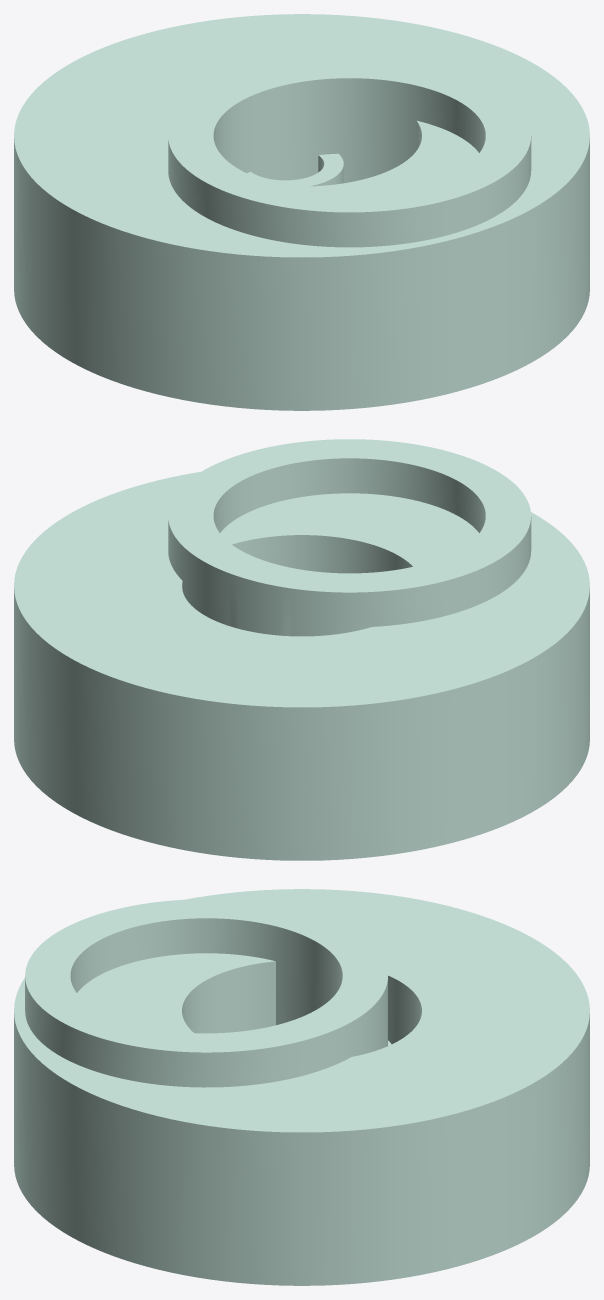
3 renders of one model, top to bottom at view 1: azimuth 30°, elevation 25°; view 2: azimuth 150°, elevation 25°; view 3: azimuth 270°, elevation 25°, orthographic.
Visible parts, largest first — view 1: Renderer Node; view 2: Renderer Node; view 3: Renderer Node.
Part boxes in pixels (x1,y1,x2,y2): Renderer Node: (14, 14, 589, 410); Renderer Node: (14, 439, 589, 860); Renderer Node: (14, 889, 589, 1285).
Size of the model in its own units: 1.52 by 0.5469 by 1.52.
